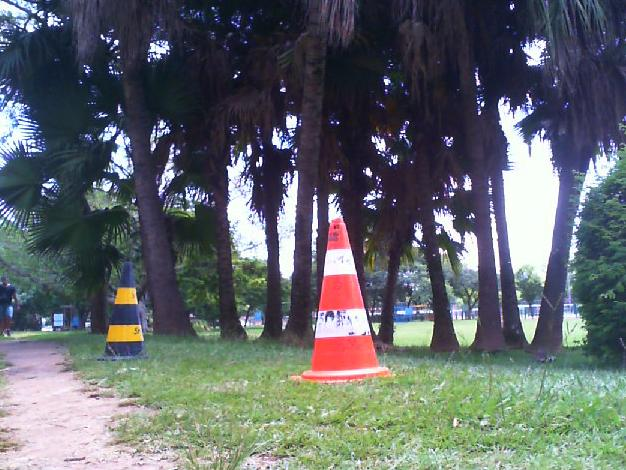0 cone: (287, 217, 395, 383), (96, 261, 149, 362)
